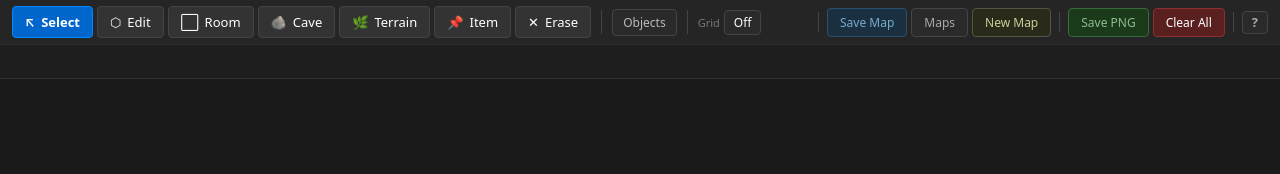
Test case: Toolbar — save dialog › dismisses dialog on Cancel
Click the button "Save Map": (867, 22) [827, 8, 907, 36]
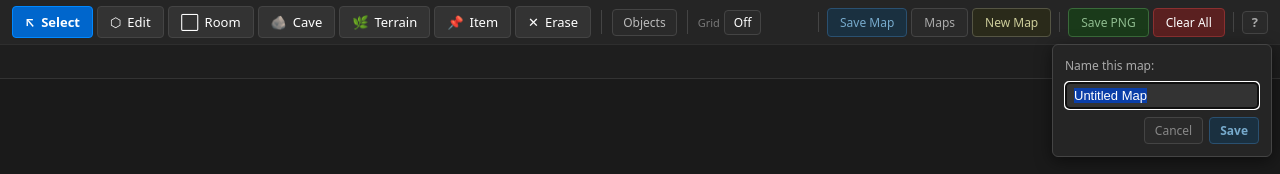
Now the text "Name this map:" is shown, box [1065, 57, 1154, 74]
Click the button "Cancel": (1174, 130) [1144, 117, 1203, 144]
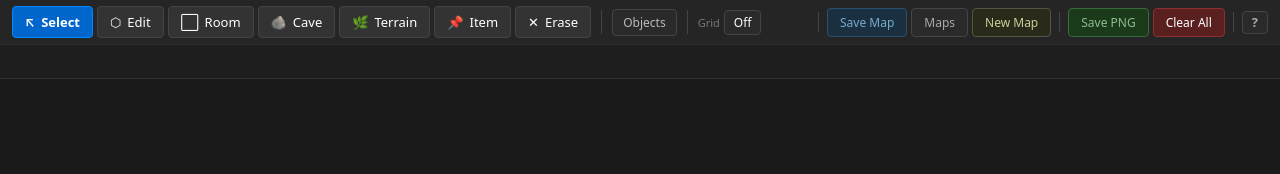
Now the text "Name this map" is gone
